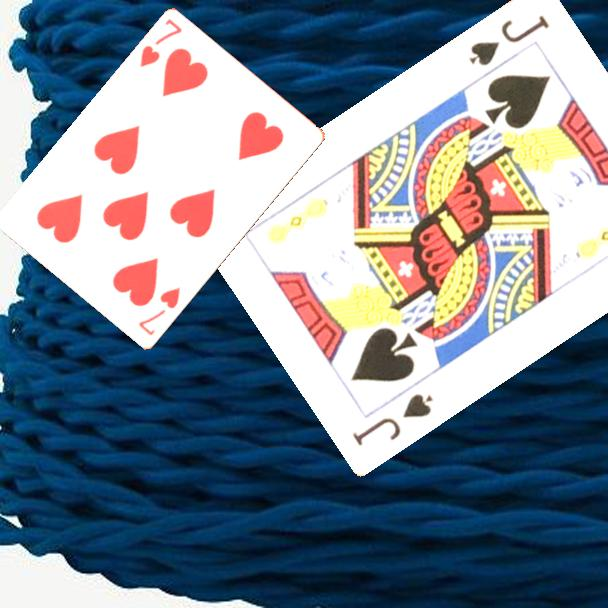h07: (135, 284, 184, 339), (136, 16, 185, 71)
s11: (348, 389, 437, 448), (466, 10, 553, 68)
